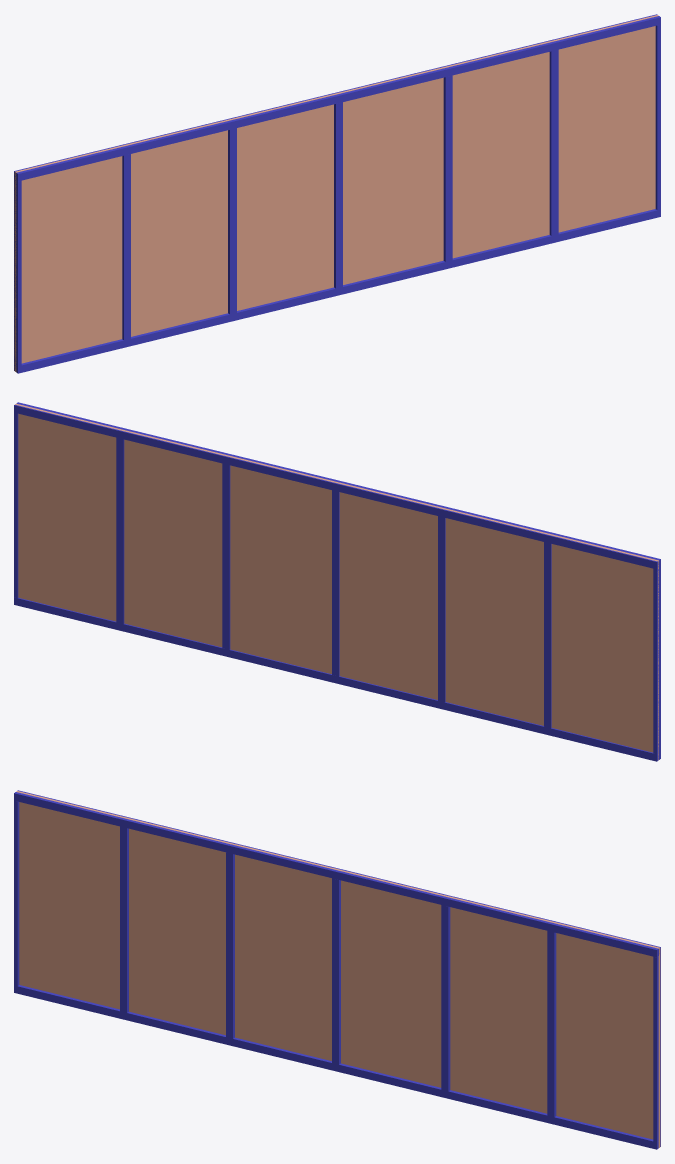
Rendered from ventanalTriple.DAE.
3 views of the same model, one above another, from view 1: azimuth 30°, elevation 25°; view 2: azimuth 150°, elevation 25°; view 3: azimuth 330°, elevation 25° (orthographic).
Visible parts, largest first — view 1: modulo3Ventanas618; view 2: modulo3Ventanas618; view 3: modulo3Ventanas618.
Part boxes in pixels (box(x1,y1,x2,y2)): modulo3Ventanas618: box(14, 14, 660, 373); modulo3Ventanas618: box(14, 402, 660, 761); modulo3Ventanas618: box(14, 790, 660, 1149).
Bounding box in the file's own units: 9.1 × 2.7 × 0.1004.
